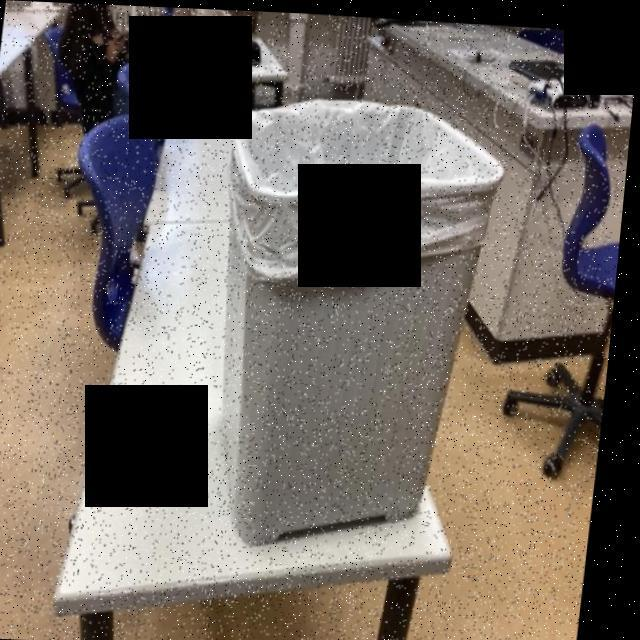bin: (182, 69, 531, 569)
